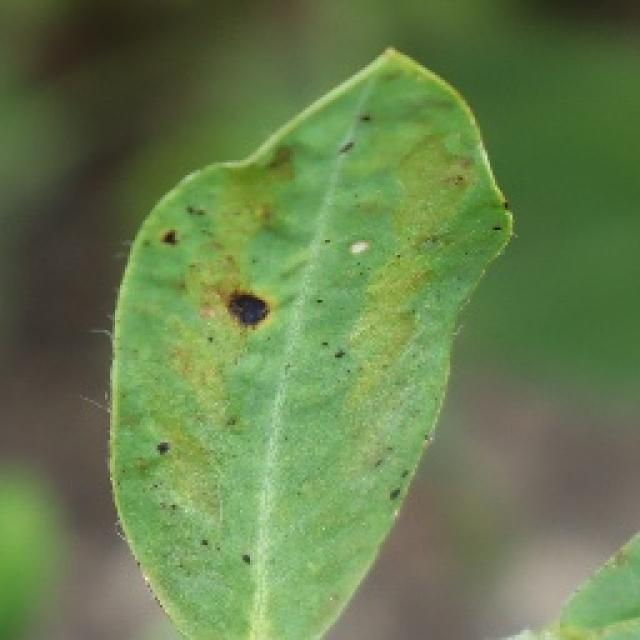Early_leaf_spot: (195, 269, 291, 341), (144, 414, 194, 486), (128, 214, 192, 264), (336, 99, 385, 160)
